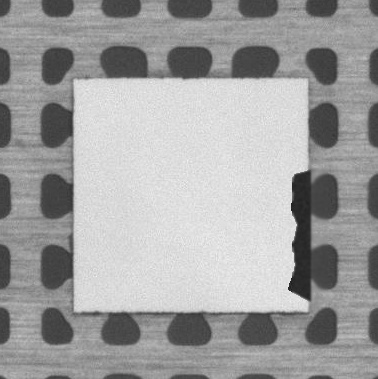DIE_BROKEN: (288, 166, 313, 300)
